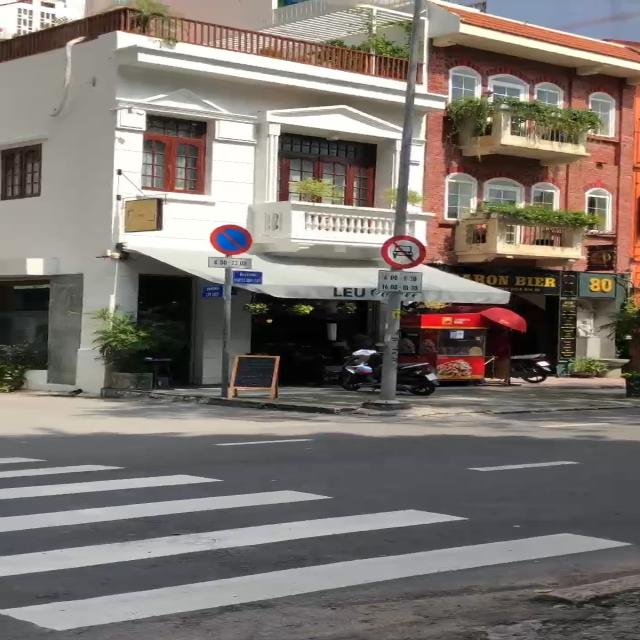Bien bao cam do xe: (207, 224, 254, 255)
Bien bao cam xe oto: (375, 231, 431, 269)
